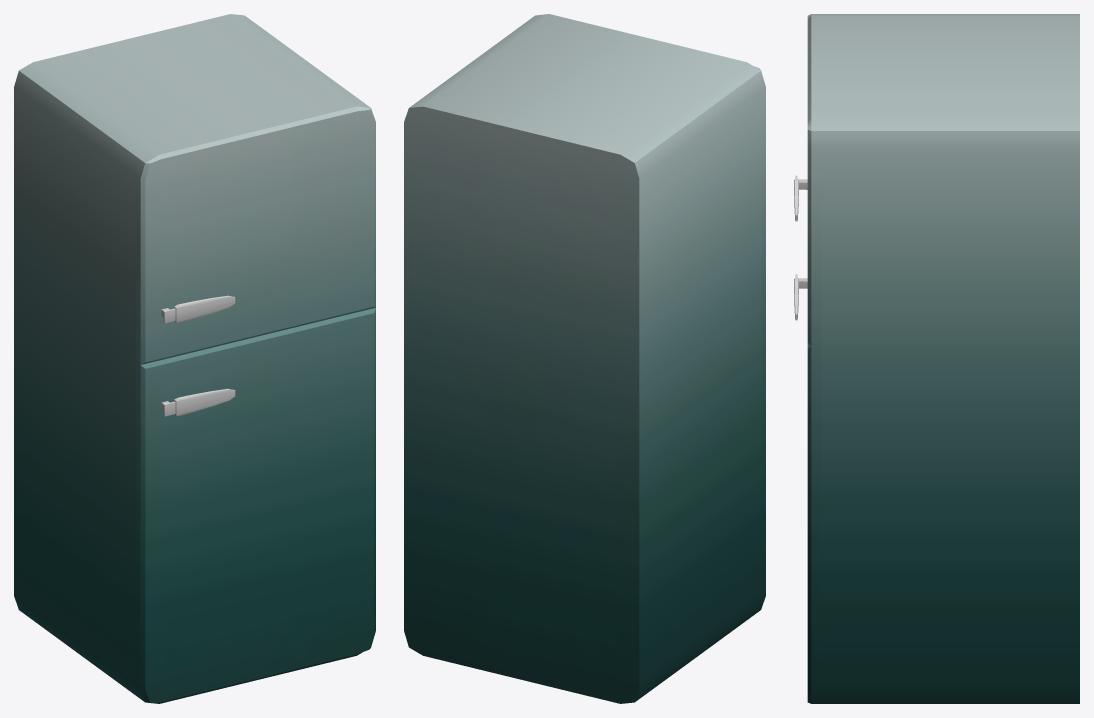
File: kitchen_fridge_mora.glb
3 views of the same model, side by side, from view 1: azimuth 30°, elevation 25°; view 2: azimuth 150°, elevation 25°; view 3: azimuth 270°, elevation 25° (orthographic). The views are drawn at different scales.
Parts seen in each view (by area): view 1: MSH_Fridge_MTA_Kitchen_0; view 2: MSH_Fridge_MTA_Kitchen_0; view 3: MSH_Fridge_MTA_Kitchen_0.
Part boxes in pixels (x1,y1,x2,y2): MSH_Fridge_MTA_Kitchen_0: (14,14,375,703); MSH_Fridge_MTA_Kitchen_0: (404,14,765,703); MSH_Fridge_MTA_Kitchen_0: (794,14,1079,703).
Size of the model in its own units: 91.4 by 204 by 90.5.
Materials: 1 (1 with a texture image).
